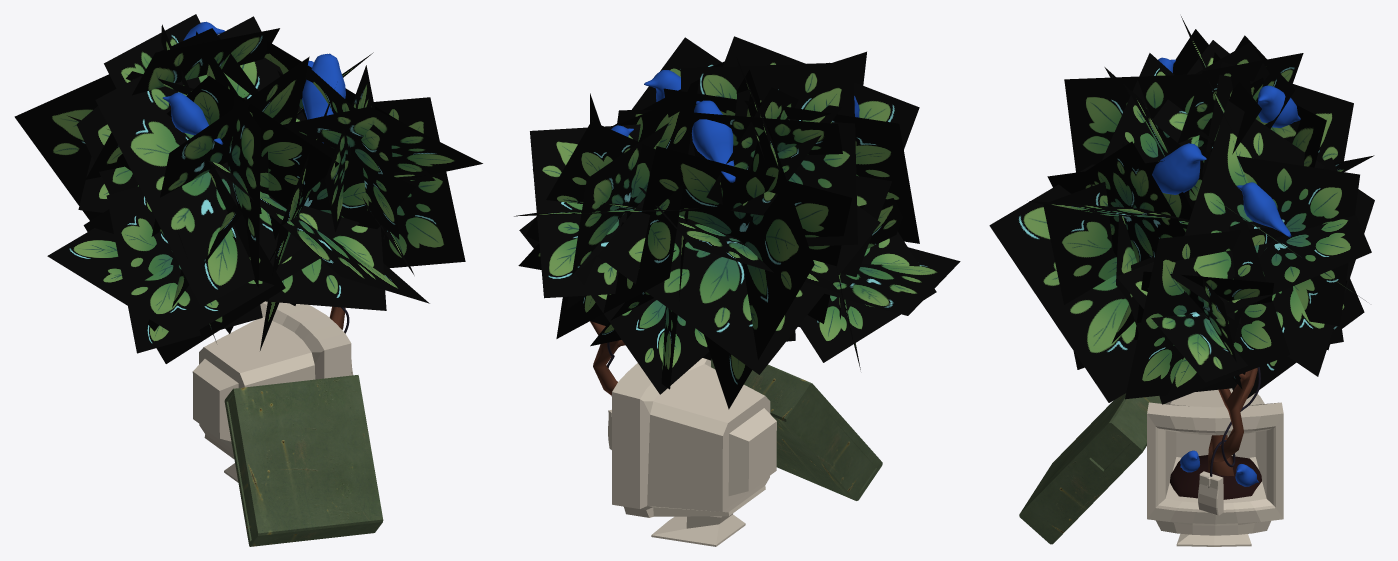
File: Old_computer_V3.fbx
3 renders of one model, left to right at view 1: azimuth 30°, elevation 25°; view 2: azimuth 150°, elevation 25°; view 3: azimuth 270°, elevation 25°, orthographic. The views are drawn at different scales.
Parts seen in each view (by area): view 1: Leafs.003, Computer box V2, Leafs.008, Leafs, Computer screen V2, Leafs.007, Leafs.004, Leafs.002, Leafs.005, bird5, bird6, Leafs.001; view 2: Leafs.004, Computer screen V2, Leafs.001, Leafs.005, Leafs.003, Leafs.008, Computer box V2, Leafs.009, bird3, Leafs.007, Tree, Leafs.002 (+1 smaller); view 3: Leafs.001, Leafs.002, Leafs, Computer screen V2, Leafs.003, Computer box V2, Leafs.007, Leafs.005, Leafs.004, Tree, bird5, Dirt (+4 smaller).
Part boxes in pixels (left/top/right/bottom): Leafs.003: left=95, top=16, right=359, bottom=307; Computer box V2: left=224, top=375, right=383, bottom=546; Leafs.008: left=47, top=165, right=319, bottom=363; Leafs: left=181, top=101, right=429, bottom=350; Computer screen V2: left=192, top=301, right=351, bottom=482; Leafs.007: left=283, top=65, right=482, bottom=239; Leafs.004: left=14, top=28, right=259, bottom=220; Leafs.002: left=362, top=97, right=465, bottom=275; Leafs.005: left=85, top=14, right=279, bottom=179; bird5: left=302, top=53, right=345, bottom=143; bird6: left=162, top=92, right=223, bottom=144; Leafs.001: left=264, top=41, right=405, bottom=124; Leafs.004: left=597, top=69, right=880, bottom=409; Computer screen V2: left=612, top=358, right=776, bottom=546; Leafs.001: left=514, top=79, right=699, bottom=338; Leafs.005: left=680, top=57, right=857, bottom=246; Leafs.003: left=663, top=36, right=919, bottom=276; Leafs.008: left=799, top=198, right=960, bottom=369; Computer box V2: left=711, top=359, right=882, bottom=500; Leafs.009: left=576, top=210, right=711, bottom=394; bird3: left=691, top=100, right=735, bottom=182; Leafs.007: left=617, top=37, right=724, bottom=124; Tree: left=590, top=321, right=625, bottom=395; Leafs.002: left=518, top=93, right=627, bottom=269; Leafs.001: left=1171, top=100, right=1374, bottom=376; Leafs.002: left=1116, top=220, right=1289, bottom=404; Leafs: left=989, top=141, right=1214, bottom=402; Computer screen V2: left=1147, top=388, right=1283, bottom=546; Leafs.003: left=1064, top=29, right=1261, bottom=209; Computer box V2: left=1019, top=393, right=1165, bottom=544; Leafs.007: left=1029, top=141, right=1189, bottom=262; Leafs.005: left=1152, top=16, right=1303, bottom=149; Leafs.004: left=1197, top=61, right=1374, bottom=174; Tree: left=1208, top=368, right=1257, bottom=476; bird5: left=1152, top=143, right=1206, bottom=194; Dirt: left=1170, top=455, right=1261, bottom=499.
Size of the model in its own units: 750 by 865 by 676.
13 materials, 2 textured.
